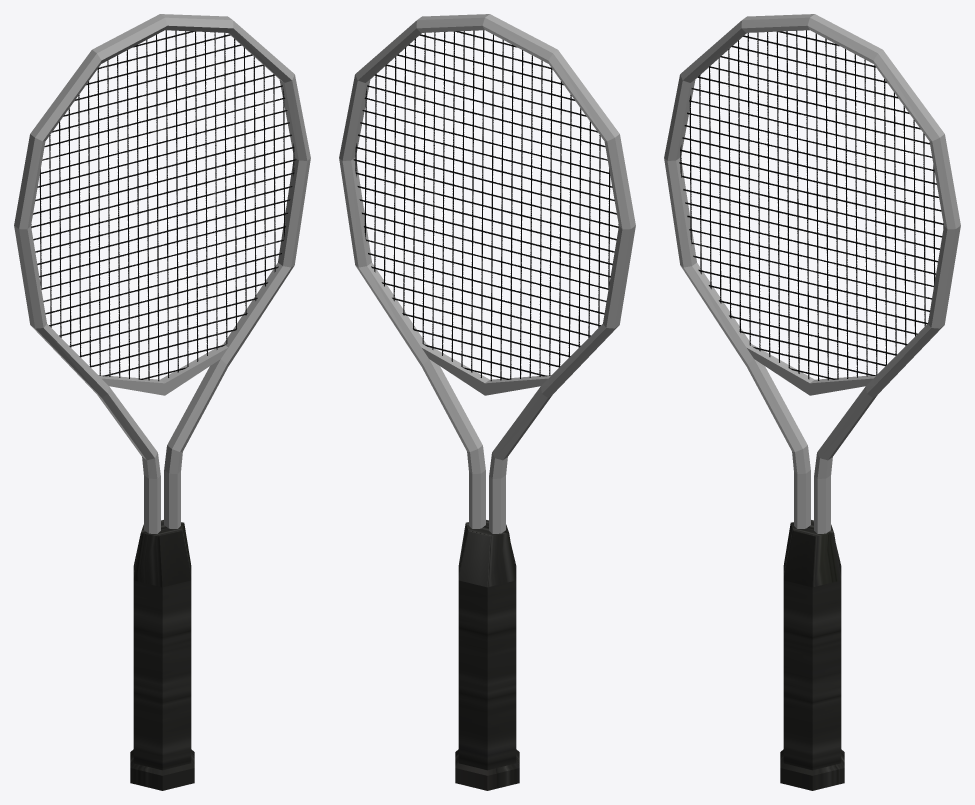
The model's file is racquet.fbx.
The picture shows the model from 3 angles, left to right: view 1: azimuth 30°, elevation 25°; view 2: azimuth 150°, elevation 25°; view 3: azimuth 330°, elevation 25°; orthographic projection.
Parts seen in each view (by area): view 1: pDisc1, pCylinder4, pCylinder1; view 2: pDisc1, pCylinder4, pCylinder1; view 3: pDisc1, pCylinder4, pCylinder1.
Boxes of the visible parts, x1=… form: pDisc1: x1=31, y1=30, x2=296, y2=381; pCylinder4: x1=14, y1=14, x2=310, y2=533; pCylinder1: x1=130, y1=520, x2=194, y2=790; pDisc1: x1=353, y1=30, x2=618, y2=381; pCylinder4: x1=339, y1=14, x2=635, y2=533; pCylinder1: x1=455, y1=520, x2=519, y2=790; pDisc1: x1=679, y1=30, x2=943, y2=380; pCylinder4: x1=664, y1=14, x2=960, y2=533; pCylinder1: x1=780, y1=520, x2=844, y2=790.
Size of the model in its own units: 10.1 by 25.11 by 1.93.
3 materials, 2 textured.
